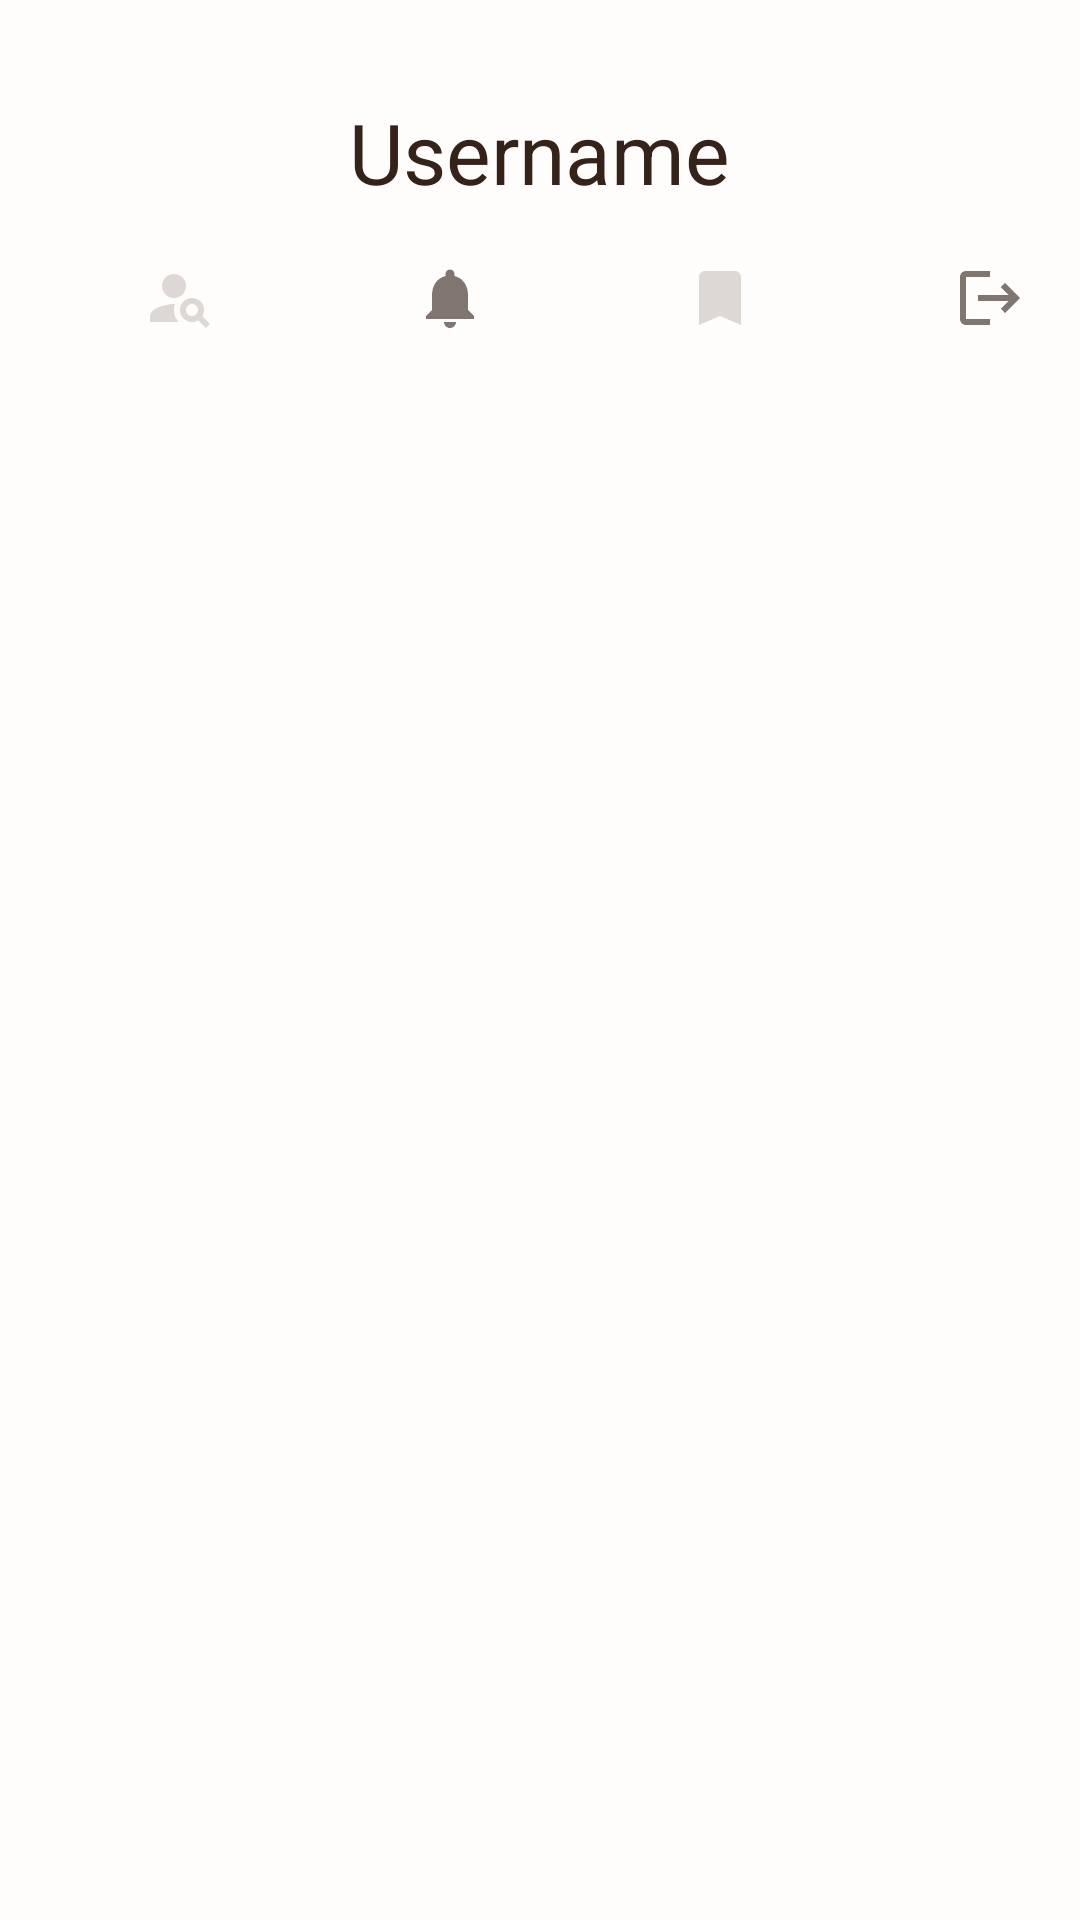

Screen size 1080x1920. Icon name, then its center in pixels as [x,y]:
notification: [450,298]
saved: [720,298]
search user: [180,301]
